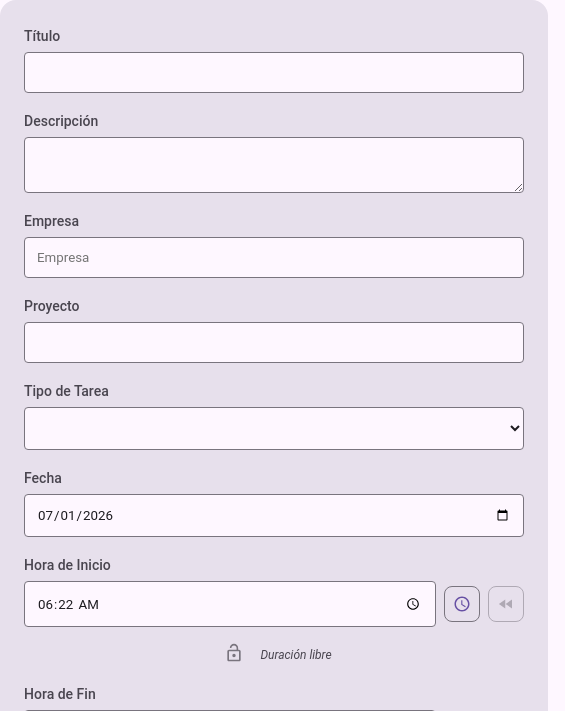
it: TaskForm Snap Buttons › should update start time when getPreviousTaskEndTime returns a date
Click the button titled "Ajustar al final de la tarea anterior": [506, 604] box [488, 586, 524, 622]
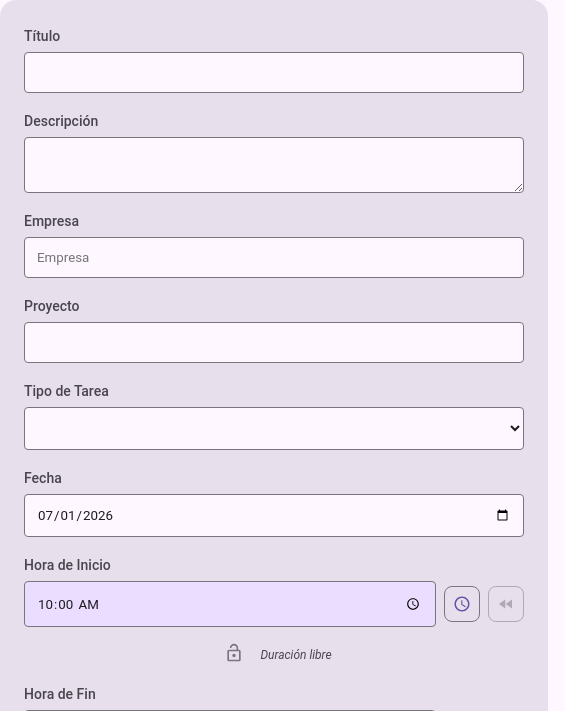
Expected: the time field labelled "Hora de Inicio" holds "10:00", [24, 581, 436, 627]
